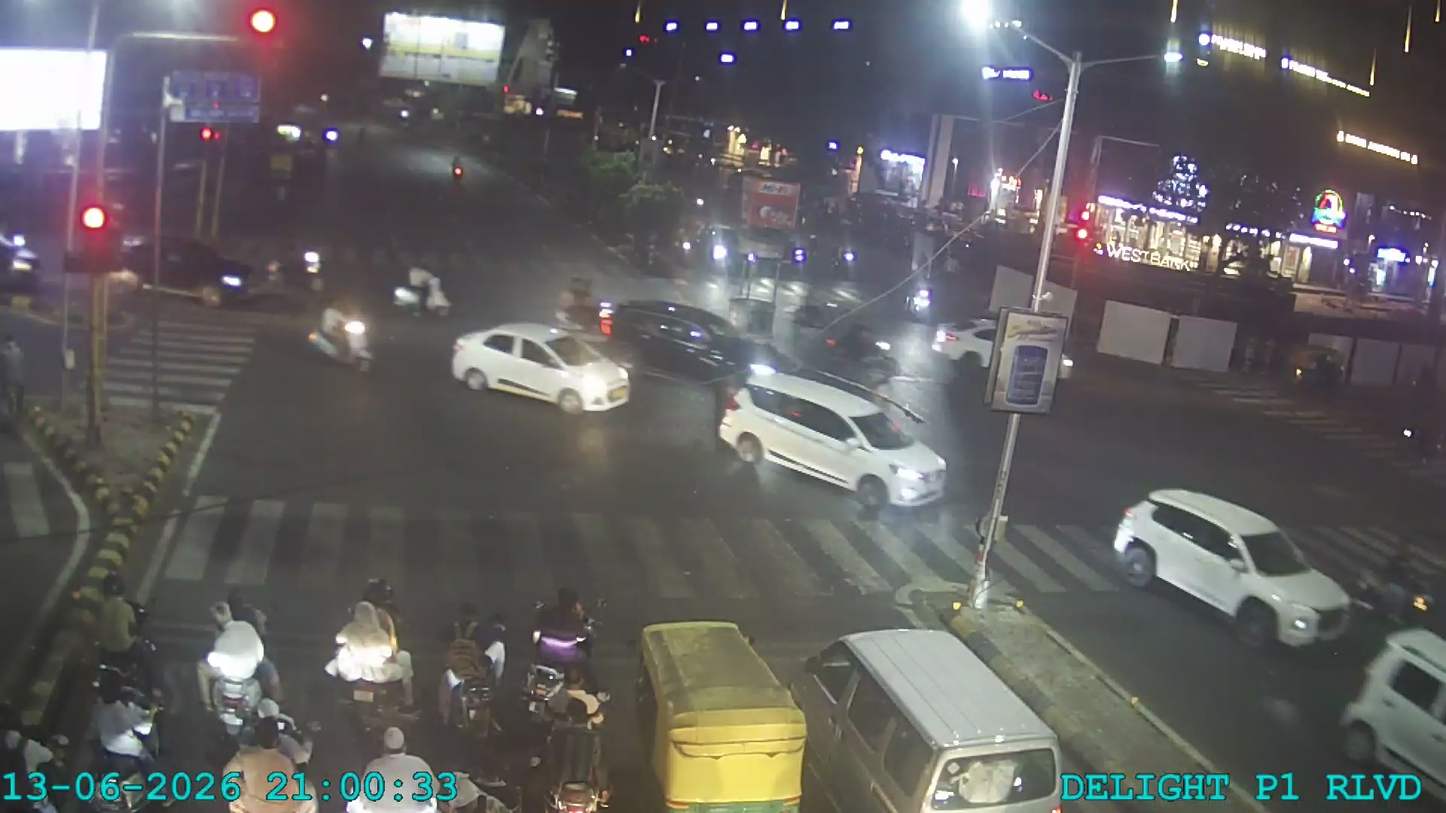auto_rickshaw: (813, 623, 1068, 805), (631, 608, 812, 802)
car: (1108, 487, 1355, 638), (708, 376, 948, 501), (1336, 619, 1446, 793), (448, 316, 638, 415)
two_wheeler: (188, 588, 288, 740), (321, 576, 420, 725), (303, 290, 380, 370), (387, 257, 453, 315), (903, 269, 936, 321), (445, 150, 470, 188)
